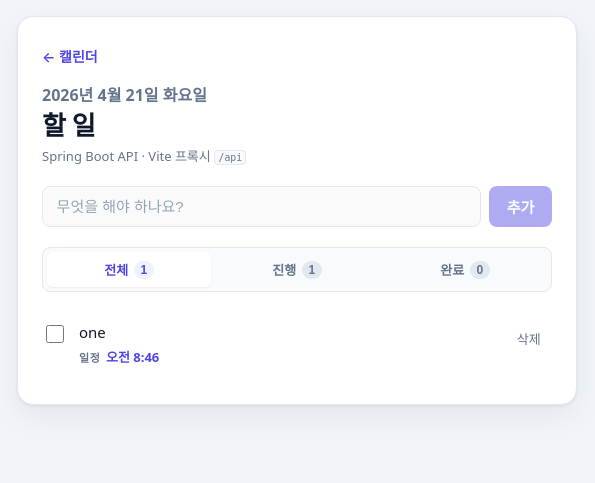
Test: TodoDayPage › shows generic update error
Expected: the text "one" is shown, x1=79 y1=322 x2=106 y2=342
Click the checkbox named "완료: one" at (55,334), box x1=46 y1=325 x2=64 y2=343
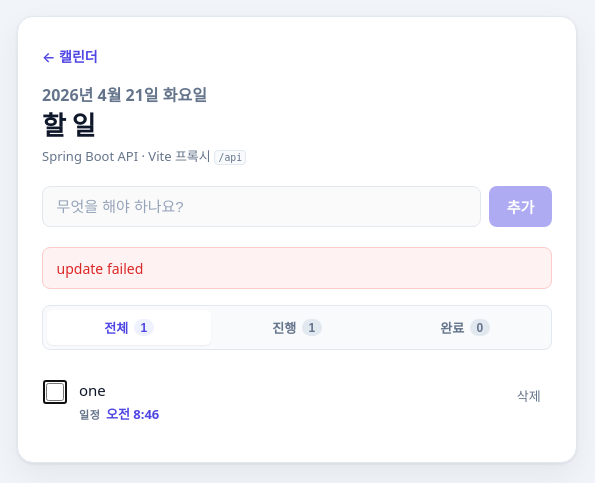
Expected: the message reads "update failed", x1=57 y1=259 x2=143 y2=278
